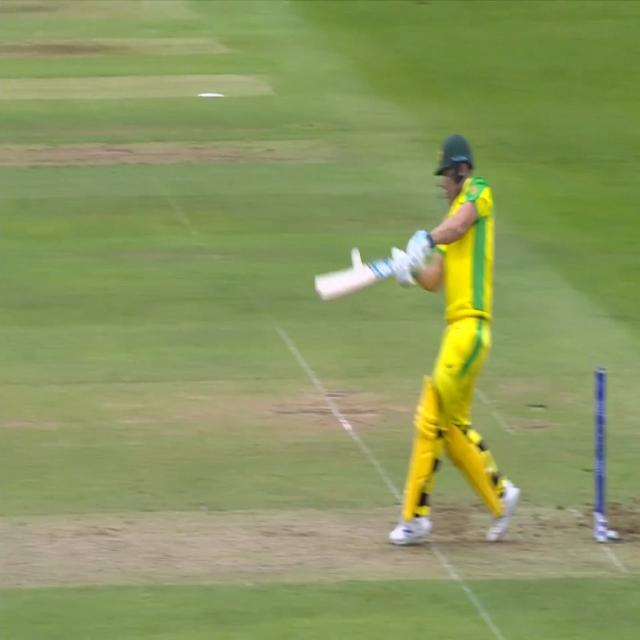ball: (346, 242, 366, 273)
